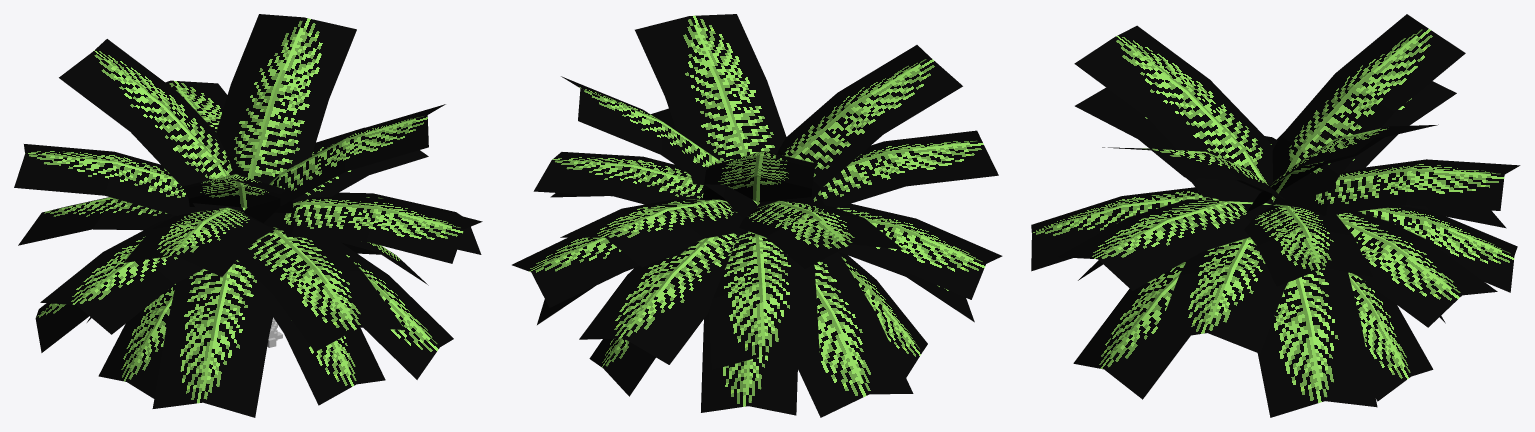
The model's file is Palm Tree Leaf Version.fbx.
The picture shows the model from 3 angles, left to right: view 1: azimuth 30°, elevation 25°; view 2: azimuth 150°, elevation 25°; view 3: azimuth 270°, elevation 25°; orthographic projection. The views are drawn at different scales.
Visible parts, largest first — view 1: Leaves; view 2: Leaves; view 3: Leaves.
Part boxes in pixels (x1,y1,x2,y2): Leaves: (14, 14, 482, 417); Leaves: (512, 14, 1002, 417); Leaves: (1031, 14, 1520, 417).
Size of the model in its own units: 1181 by 1158 by 726.
